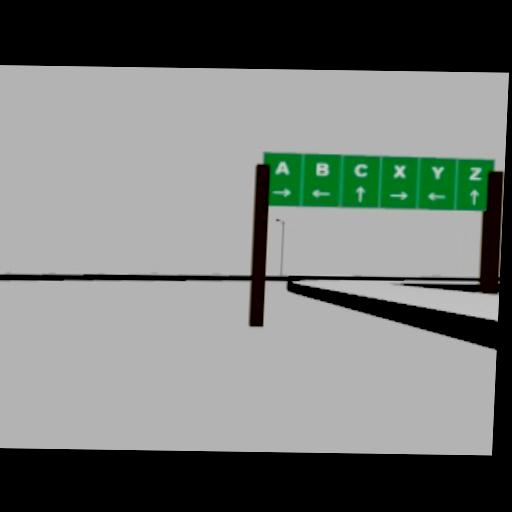A: (273, 159, 291, 174)
B: (315, 159, 329, 174)
C: (352, 162, 368, 175)
Left: (425, 191, 446, 200), (311, 188, 331, 196)
Right: (387, 189, 408, 199), (271, 185, 291, 195)
Straight: (468, 187, 479, 205), (354, 183, 365, 200)
X: (392, 162, 406, 178)
Y: (430, 163, 444, 178)
Z: (468, 166, 481, 179)
